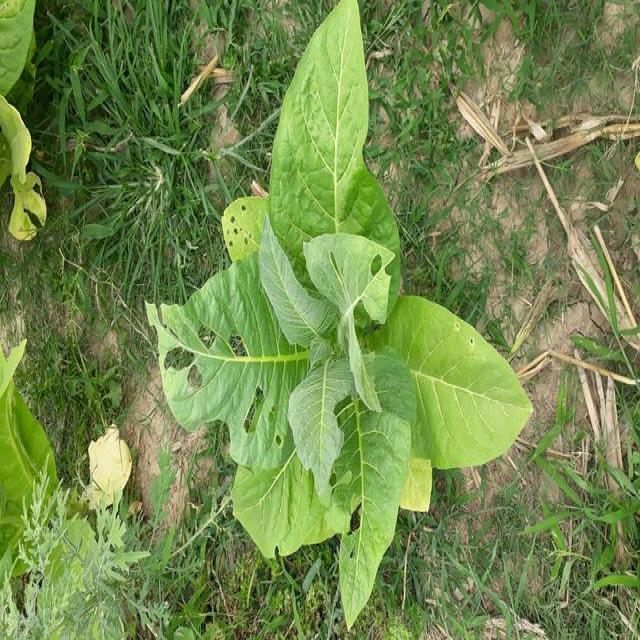crop: (162, 15, 531, 631)
